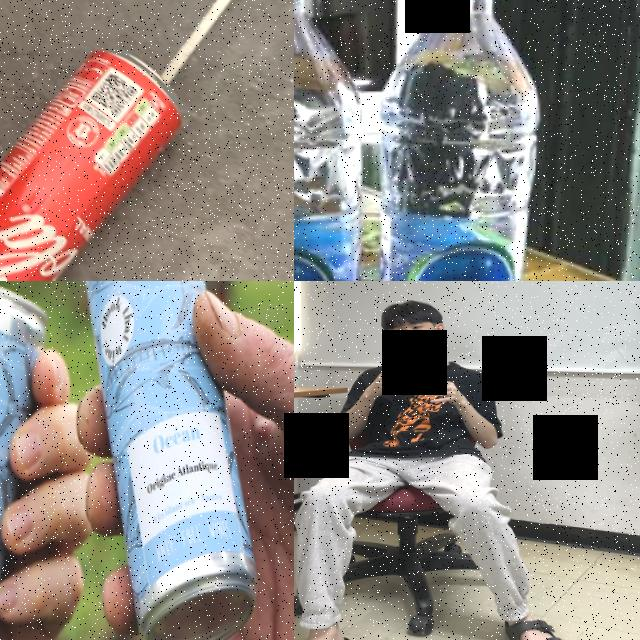bottle: (362, 0, 551, 281), (294, 0, 382, 281)
can: (68, 281, 271, 640), (0, 39, 188, 281), (0, 281, 45, 640)
cup: (382, 354, 422, 395)
